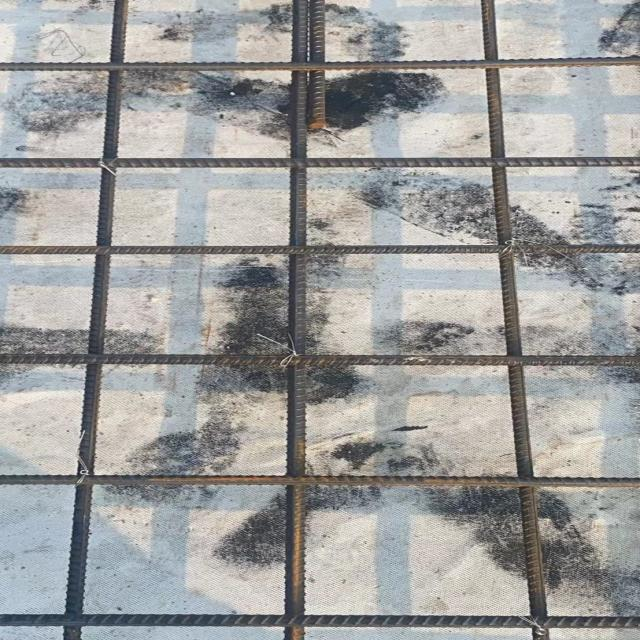ribbed bar: (478, 0, 549, 639), (63, 0, 129, 639), (284, 0, 325, 639), (0, 612, 638, 627), (0, 56, 638, 70), (0, 352, 638, 366), (0, 473, 638, 487), (0, 155, 638, 168), (0, 243, 638, 253)
